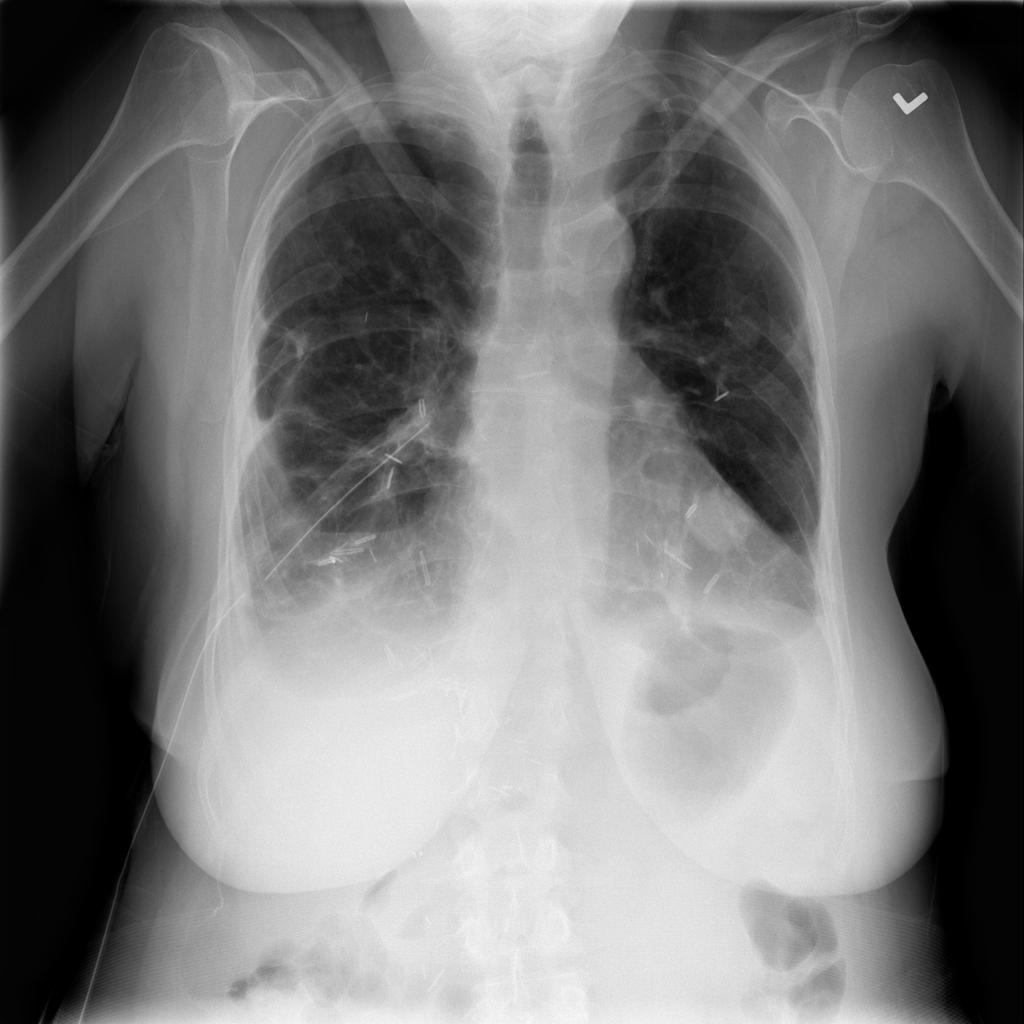nodule: (673, 464, 774, 569), (712, 295, 779, 370)
